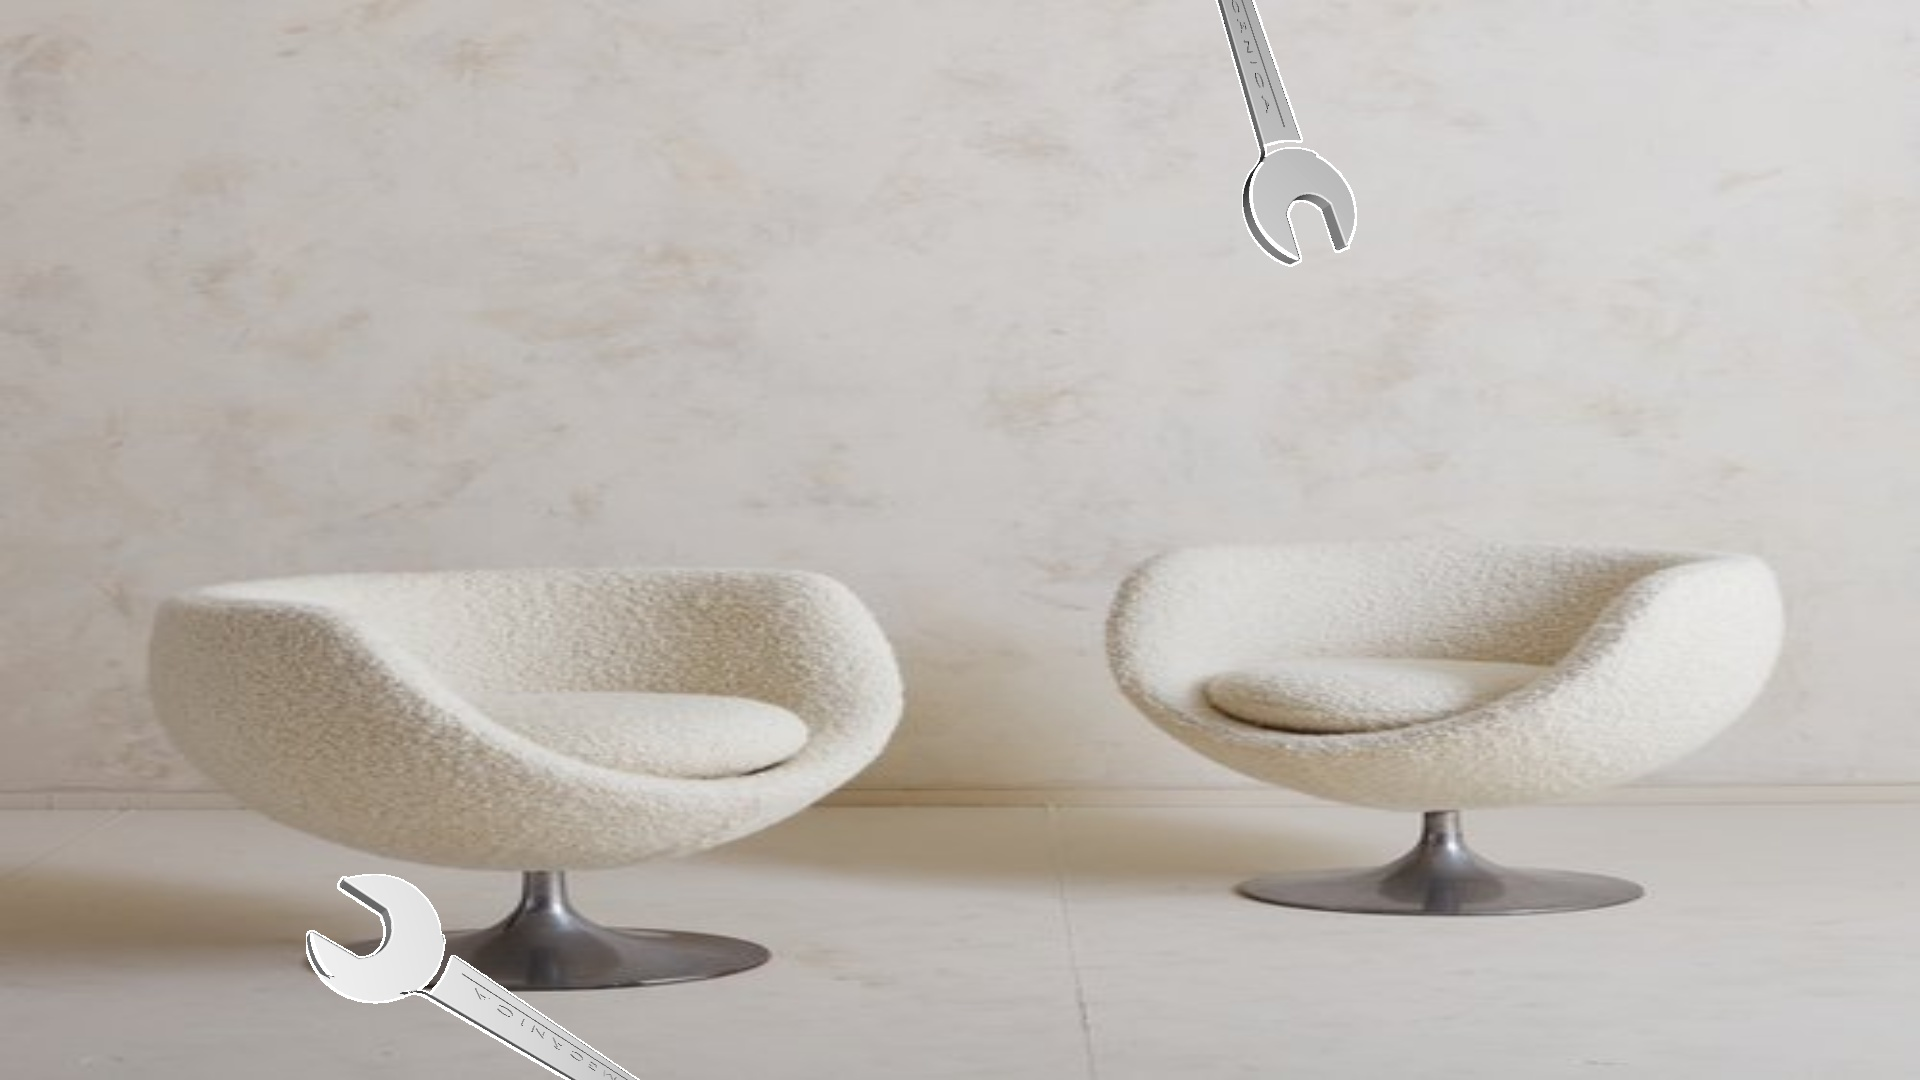Mixed Key: (306, 874, 640, 1079), (1215, 0, 1356, 266)
